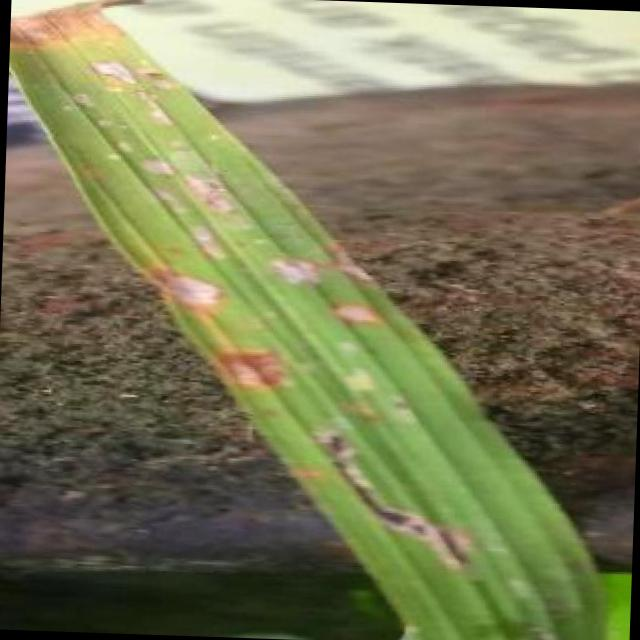Rice_Blast: (288, 406, 502, 574), (240, 219, 402, 302), (136, 239, 240, 332), (202, 320, 300, 390), (301, 283, 384, 340), (74, 34, 144, 96), (172, 196, 232, 262), (138, 177, 200, 224), (129, 140, 181, 185), (131, 85, 181, 124)
